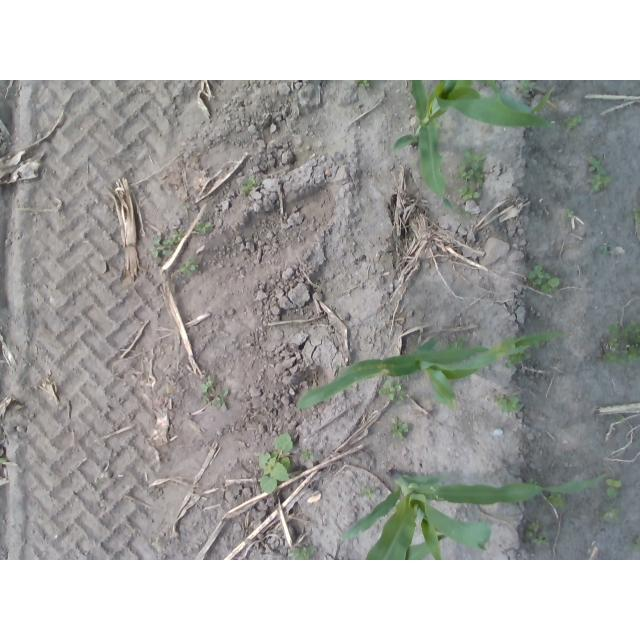Maize: (335, 470, 606, 560), (394, 80, 555, 213), (297, 333, 563, 412)
Weeds: (258, 434, 294, 495), (600, 322, 640, 363), (459, 150, 487, 183), (150, 235, 174, 258), (496, 394, 524, 413), (379, 379, 402, 402), (289, 545, 319, 559), (391, 417, 408, 440), (588, 176, 611, 193), (606, 477, 623, 500), (529, 264, 548, 284), (588, 155, 605, 175), (564, 116, 585, 131), (215, 391, 230, 411), (516, 81, 536, 96), (359, 486, 380, 499), (461, 186, 480, 200), (541, 277, 559, 291), (183, 261, 199, 276), (547, 493, 564, 507), (201, 378, 215, 393), (526, 522, 539, 538), (602, 507, 619, 519), (598, 242, 615, 254), (244, 179, 257, 193), (174, 229, 186, 244), (302, 450, 314, 463), (532, 535, 544, 546), (201, 222, 211, 235), (631, 205, 640, 217), (358, 81, 371, 87), (635, 536, 640, 551), (204, 398, 212, 407), (567, 210, 573, 217)
